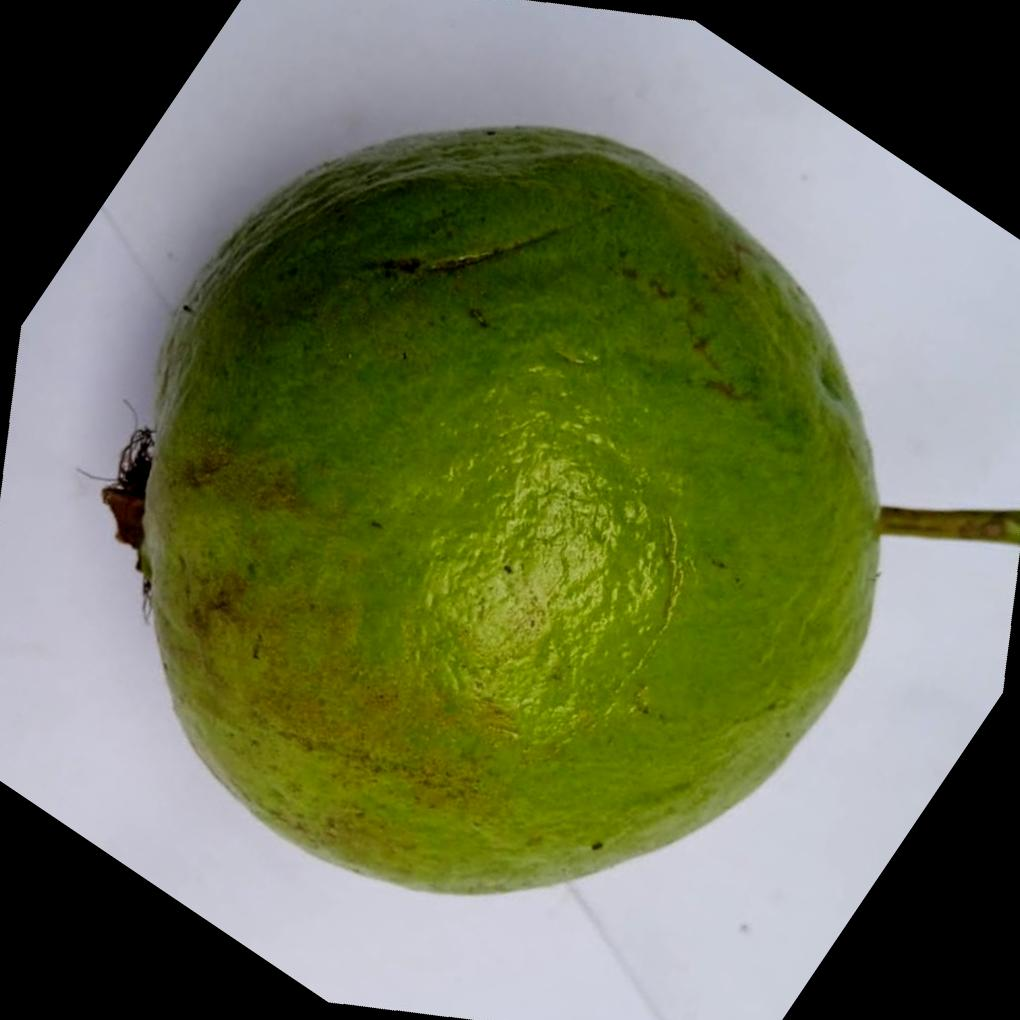FreshGuava: (137, 119, 886, 894)
